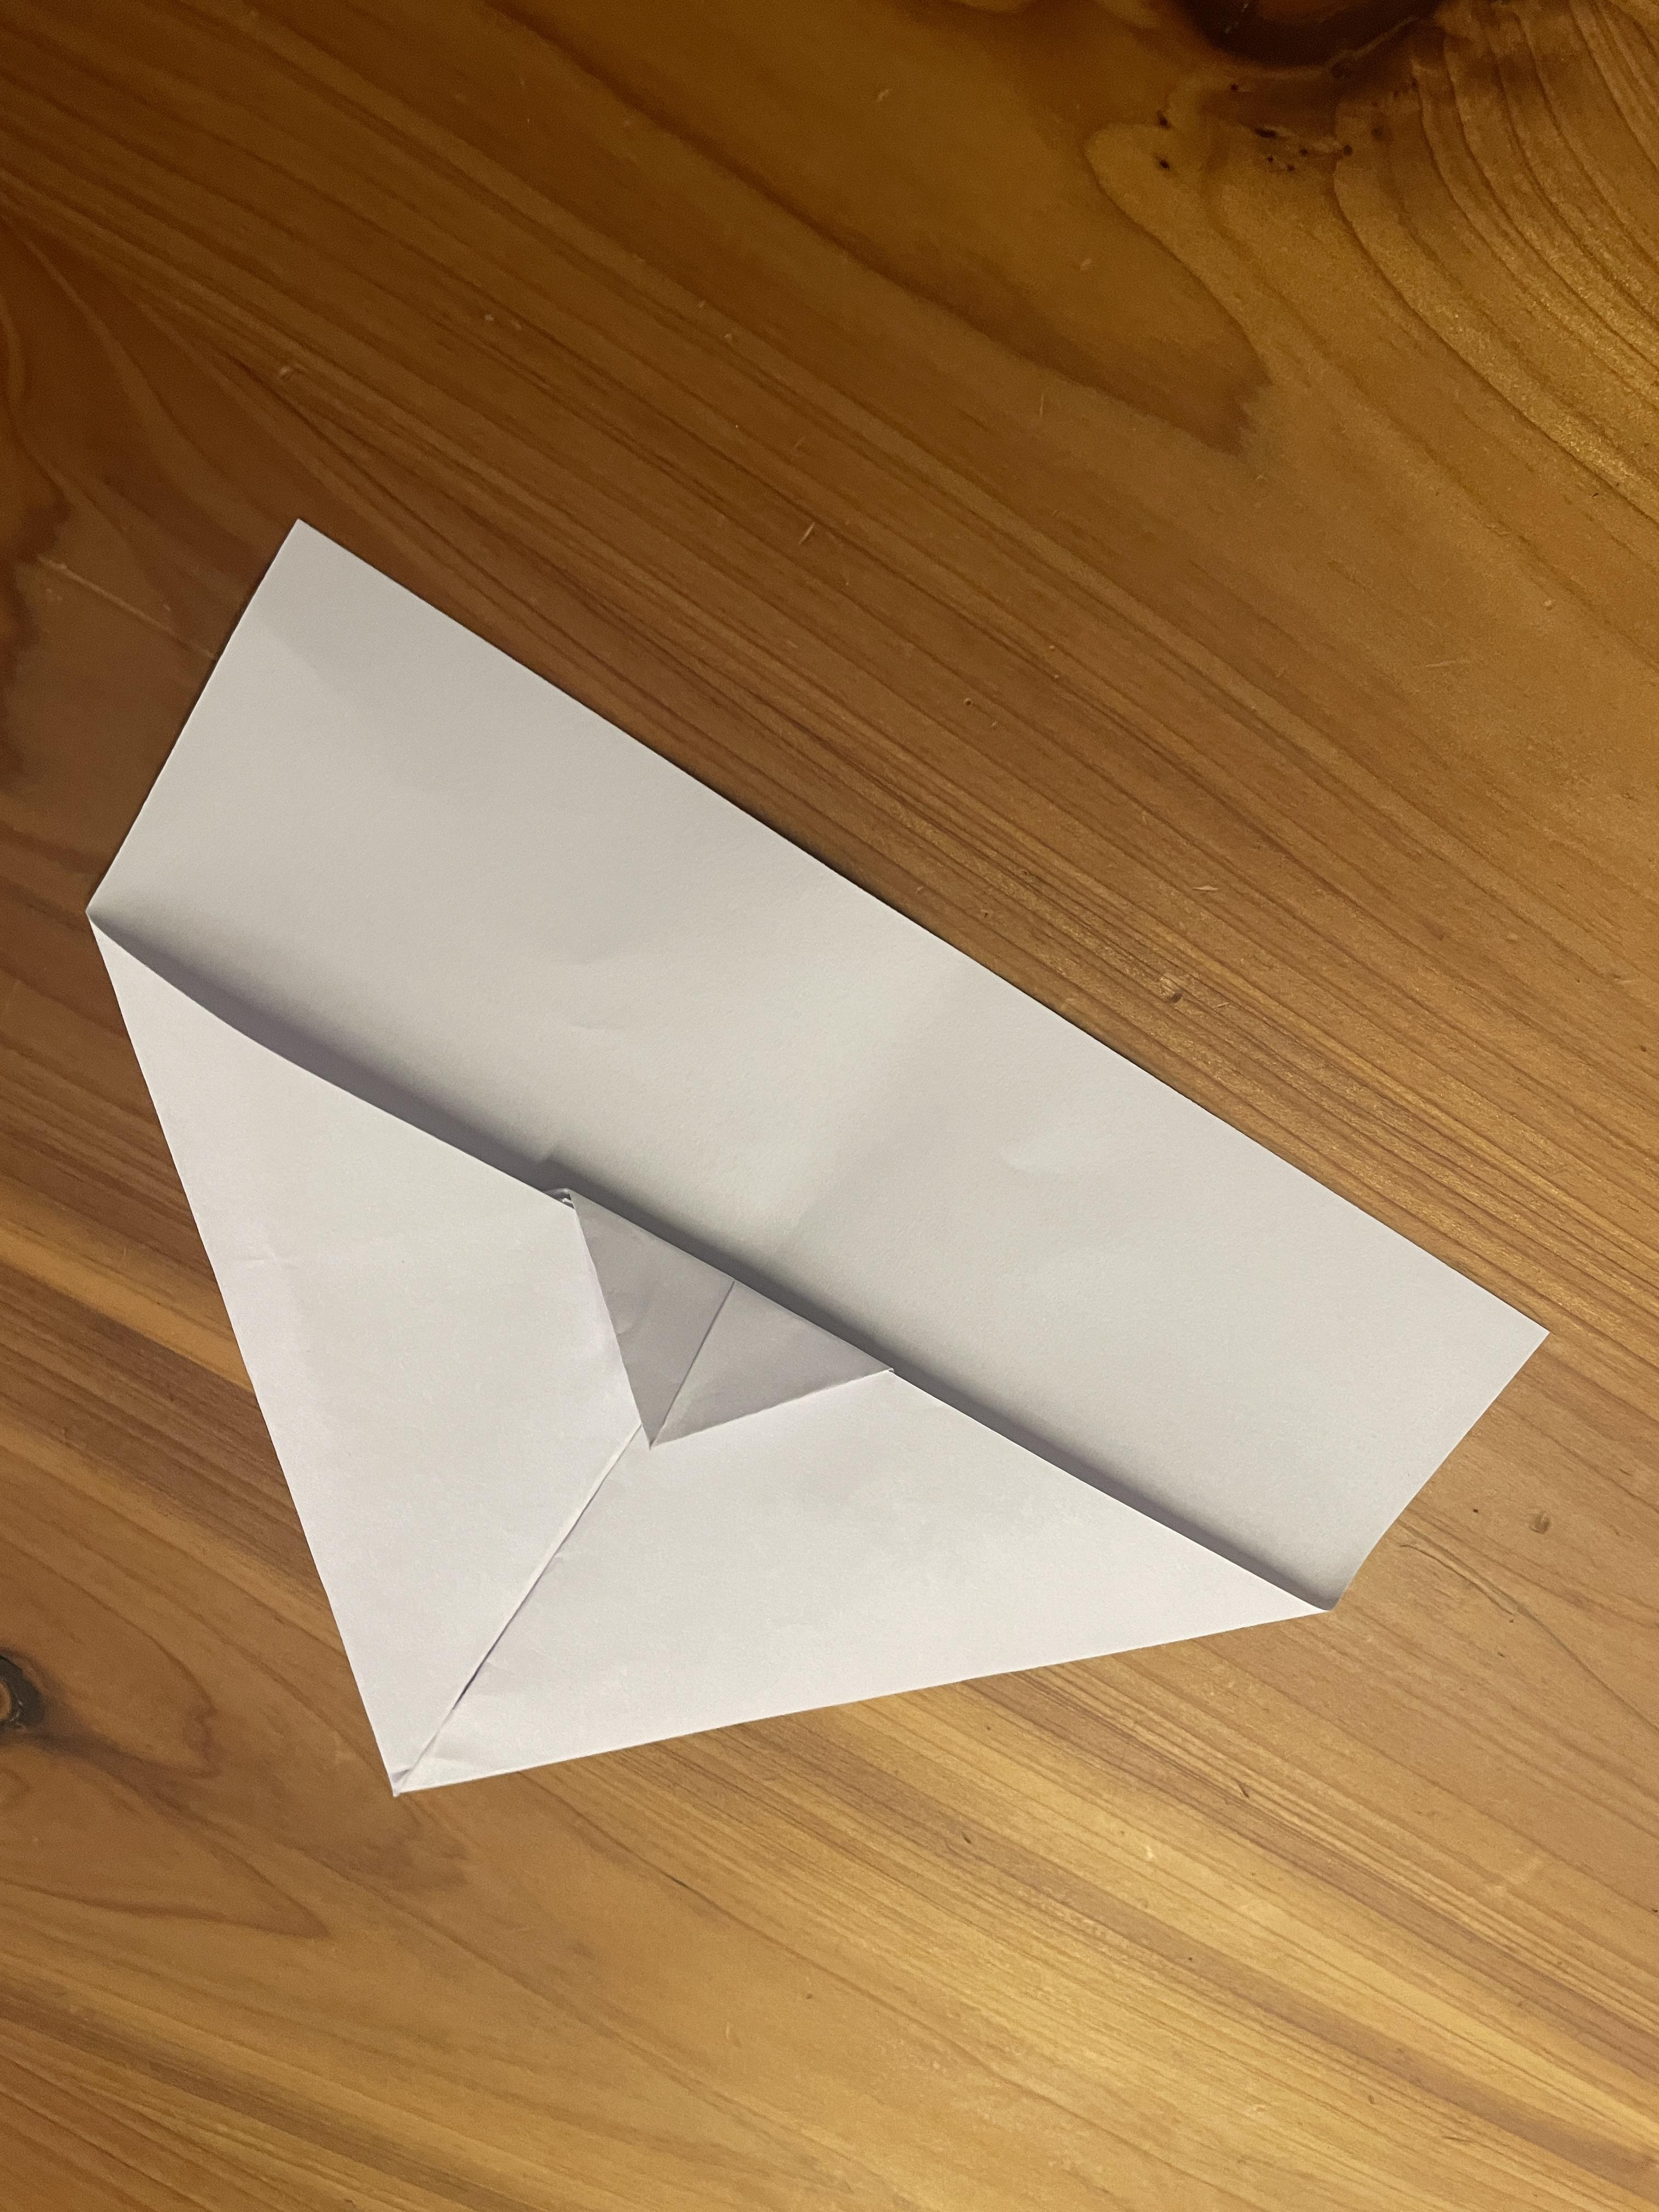shape_2: (23, 418, 1605, 1951)
